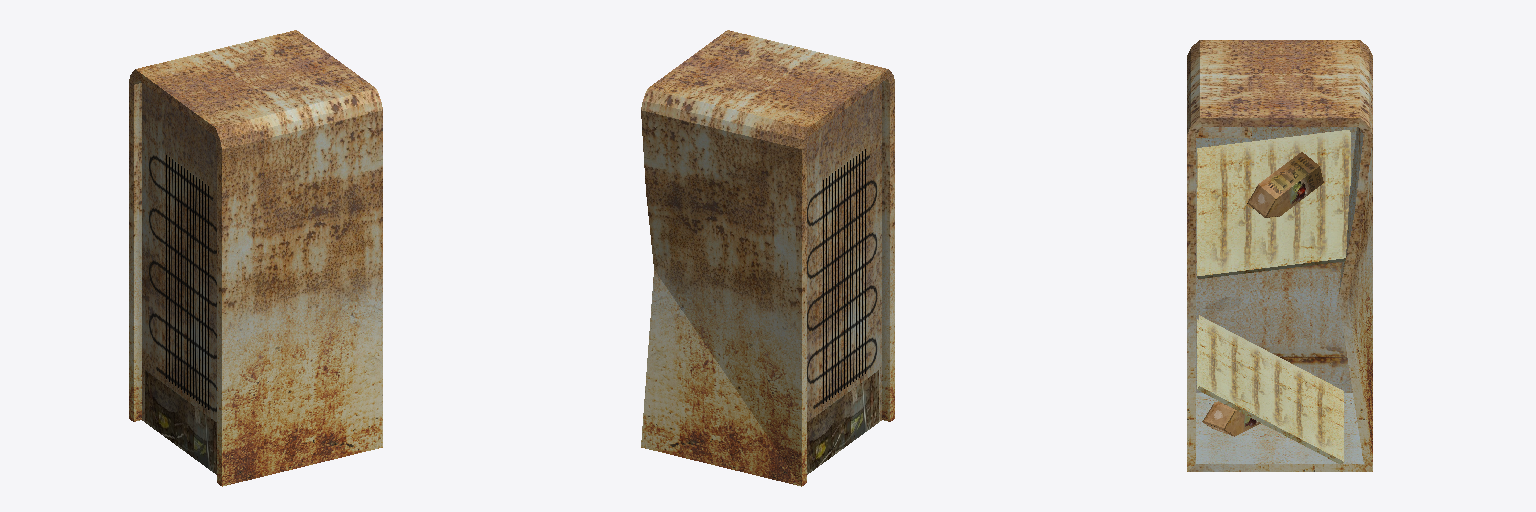
3 views of the same model, side by side, from view 1: azimuth 30°, elevation 25°; view 2: azimuth 150°, elevation 25°; view 3: azimuth 270°, elevation 25° (orthographic).
Parts seen in each view (by area): view 1: Refrigerator; view 2: Refrigerator; view 3: Refrigerator.
Part boxes in pixels (x1,y1,x2,y2): Refrigerator: (129, 30, 382, 486); Refrigerator: (641, 30, 894, 486); Refrigerator: (1187, 40, 1372, 471).
Bounding box in the file's own units: 2 × 4.2 × 2.
1 materials, 1 textured.